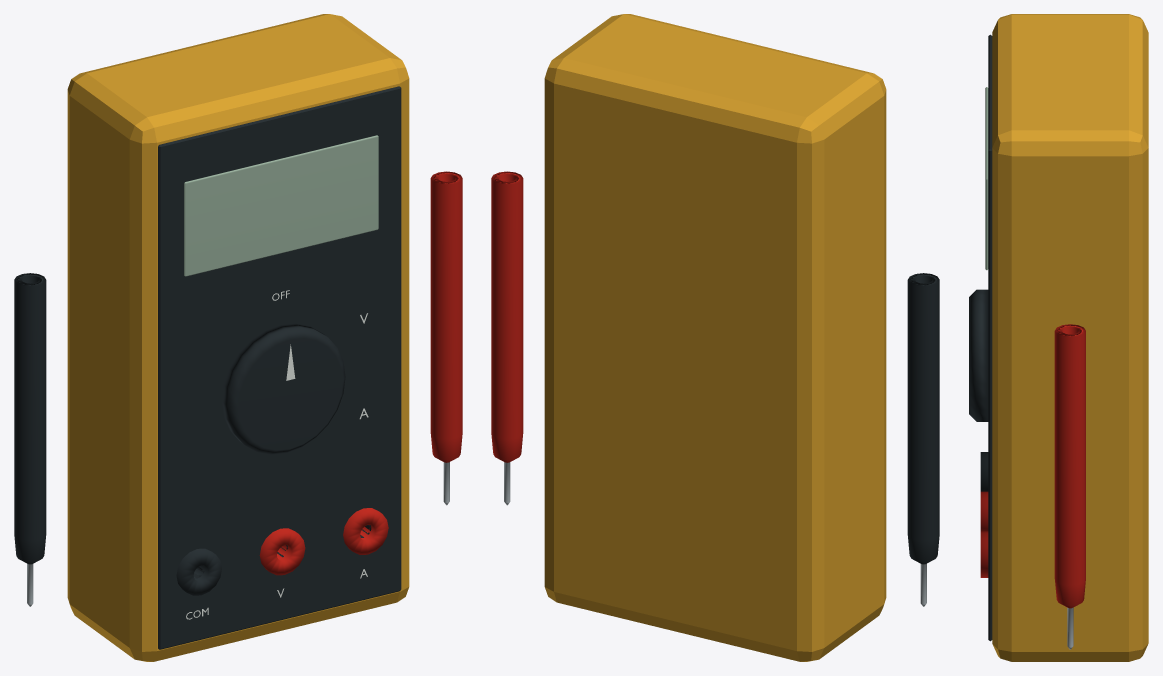
The model's file is VLAB_multimeter.fbx.
3 renders of one model, left to right at view 1: azimuth 30°, elevation 25°; view 2: azimuth 150°, elevation 25°; view 3: azimuth 270°, elevation 25°, orthographic. The views are drawn at different scales.
Parts seen in each view (by area): view 1: VLAB_multimeter_Body_VIS, VLAB_multimeter_Display_VIS, VLAB_multimeter_Dial_VIS, VLAB_multimeter_ProbeA_VIS, VLAB_multimeter_ProbeB_VIS, VLAB_multimeter_Ports_VIS; view 2: VLAB_multimeter_Body_VIS, VLAB_multimeter_ProbeA_VIS, VLAB_multimeter_ProbeB_VIS; view 3: VLAB_multimeter_Body_VIS, VLAB_multimeter_ProbeB_VIS, VLAB_multimeter_Dial_VIS, VLAB_multimeter_Ports_VIS, VLAB_multimeter_Display_VIS.
Boxes of the visible parts, x1=… form: VLAB_multimeter_Body_VIS: x1=67, y1=14, x2=409, y2=661; VLAB_multimeter_Display_VIS: x1=184, y1=135, x2=378, y2=276; VLAB_multimeter_Dial_VIS: x1=221, y1=323, x2=345, y2=454; VLAB_multimeter_ProbeA_VIS: x1=14, y1=273, x2=46, y2=606; VLAB_multimeter_ProbeB_VIS: x1=430, y1=171, x2=462, y2=505; VLAB_multimeter_Ports_VIS: x1=176, y1=508, x2=388, y2=595; VLAB_multimeter_Body_VIS: x1=544, y1=14, x2=886, y2=661; VLAB_multimeter_ProbeA_VIS: x1=907, y1=273, x2=939, y2=606; VLAB_multimeter_ProbeB_VIS: x1=491, y1=171, x2=523, y2=505; VLAB_multimeter_Body_VIS: x1=988, y1=14, x2=1148, y2=661; VLAB_multimeter_ProbeB_VIS: x1=1054, y1=324, x2=1085, y2=649; VLAB_multimeter_Dial_VIS: x1=969, y1=289, x2=988, y2=421; VLAB_multimeter_Ports_VIS: x1=980, y1=452, x2=988, y2=577; VLAB_multimeter_Display_VIS: x1=985, y1=87, x2=988, y2=270.
Bounding box in the file's own units: 0.128 × 0.15 × 0.0461.
